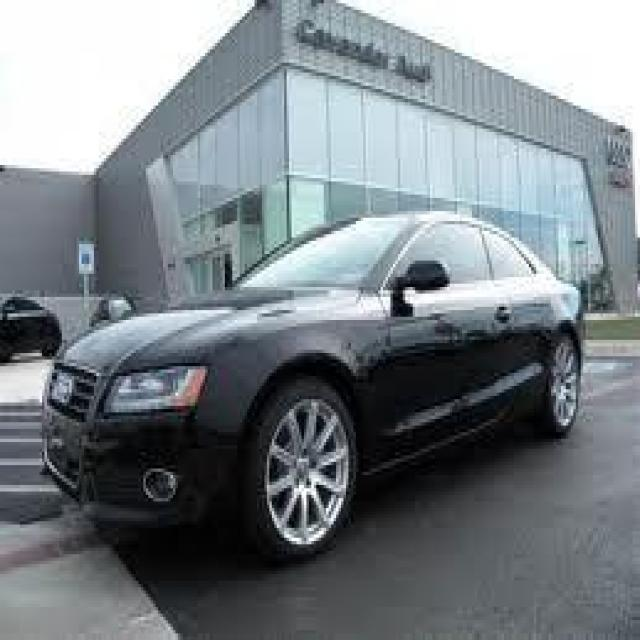Car: (43, 162, 602, 560)
